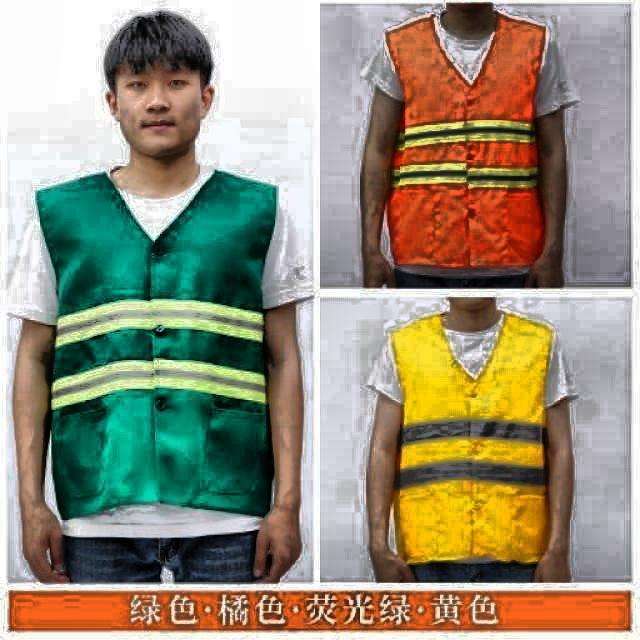safety_jacket: (38, 165, 288, 520), (376, 9, 564, 270), (390, 312, 566, 560)
